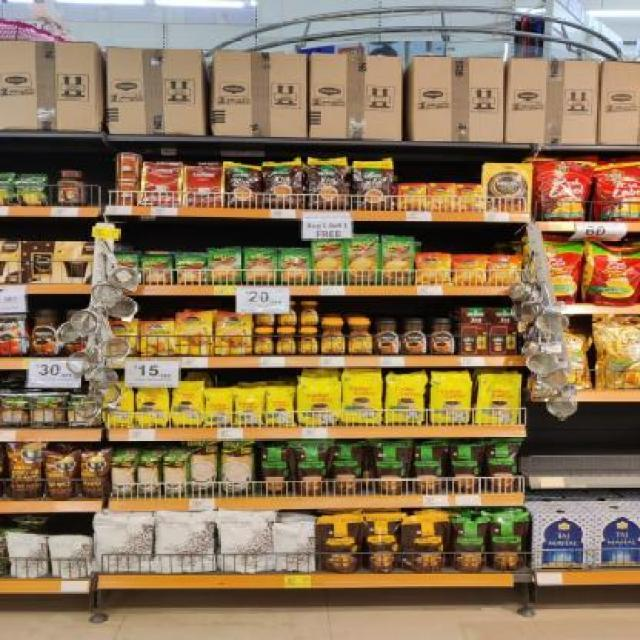Coffee: (215, 313, 253, 355), (175, 313, 213, 355), (33, 309, 61, 357), (139, 320, 175, 356), (108, 318, 139, 356), (0, 312, 28, 354), (416, 253, 450, 284), (401, 319, 428, 356), (320, 318, 346, 355), (454, 254, 485, 285), (489, 254, 520, 285), (347, 318, 373, 354), (429, 318, 455, 354), (375, 318, 399, 355), (254, 300, 276, 326), (255, 328, 273, 356), (279, 300, 297, 326), (277, 328, 295, 354), (299, 329, 317, 355), (302, 301, 321, 325)
